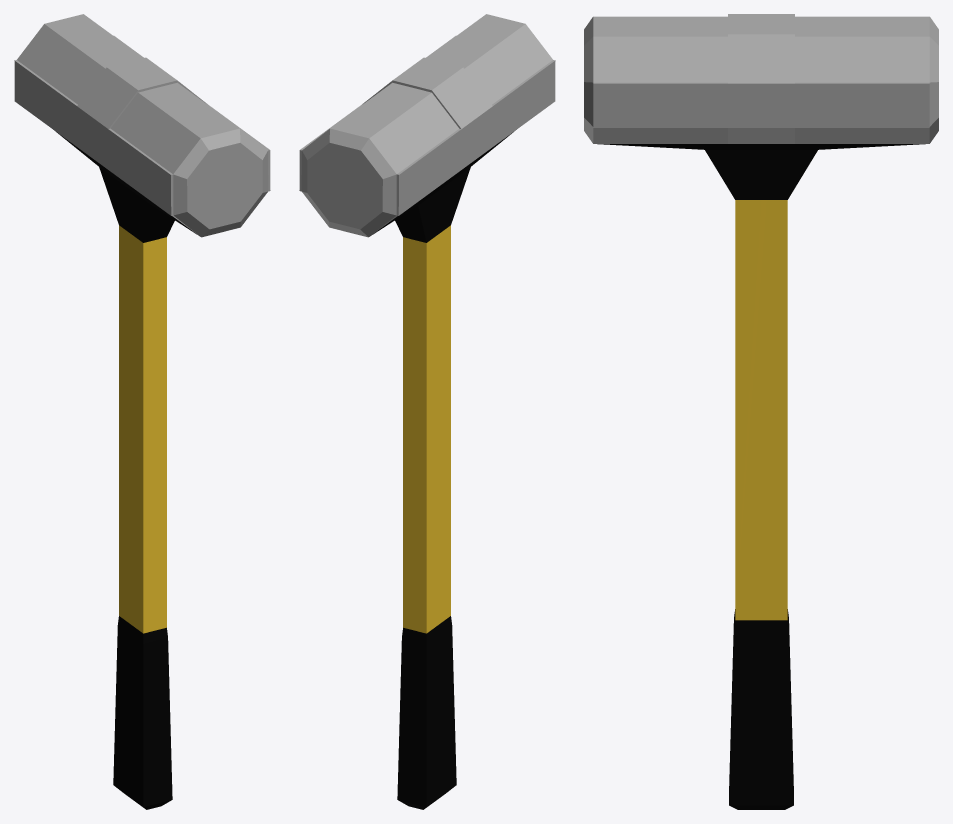
The model's file is sledgehammer.fbx.
The picture shows the model from 3 angles, left to right: view 1: azimuth 30°, elevation 25°; view 2: azimuth 150°, elevation 25°; view 3: azimuth 270°, elevation 25°; orthographic projection. The views are drawn at different scales.
Parts seen in each view (by area): view 1: sledgehammer; view 2: sledgehammer; view 3: sledgehammer.
Boxes of the visible parts, x1=… form: sledgehammer: x1=14, y1=14, x2=270, y2=809; sledgehammer: x1=299, y1=14, x2=555, y2=809; sledgehammer: x1=584, y1=14, x2=938, y2=809.
Bounding box in the file's own units: 0.6718 × 4.69 × 1.93.
